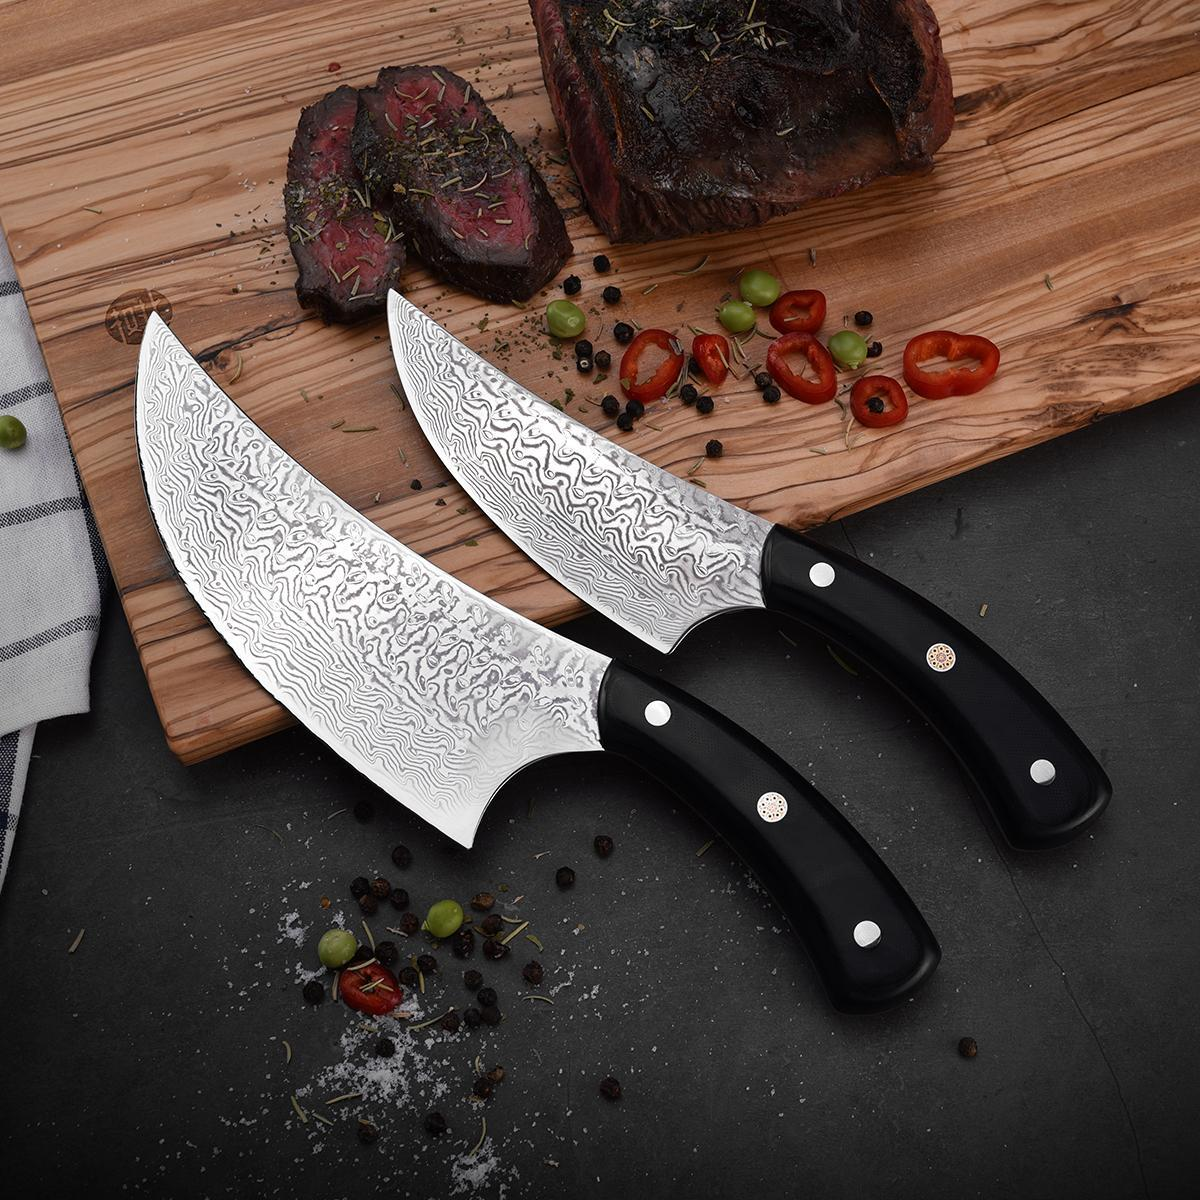faca: (137, 319, 940, 1009), (389, 293, 1112, 849)
